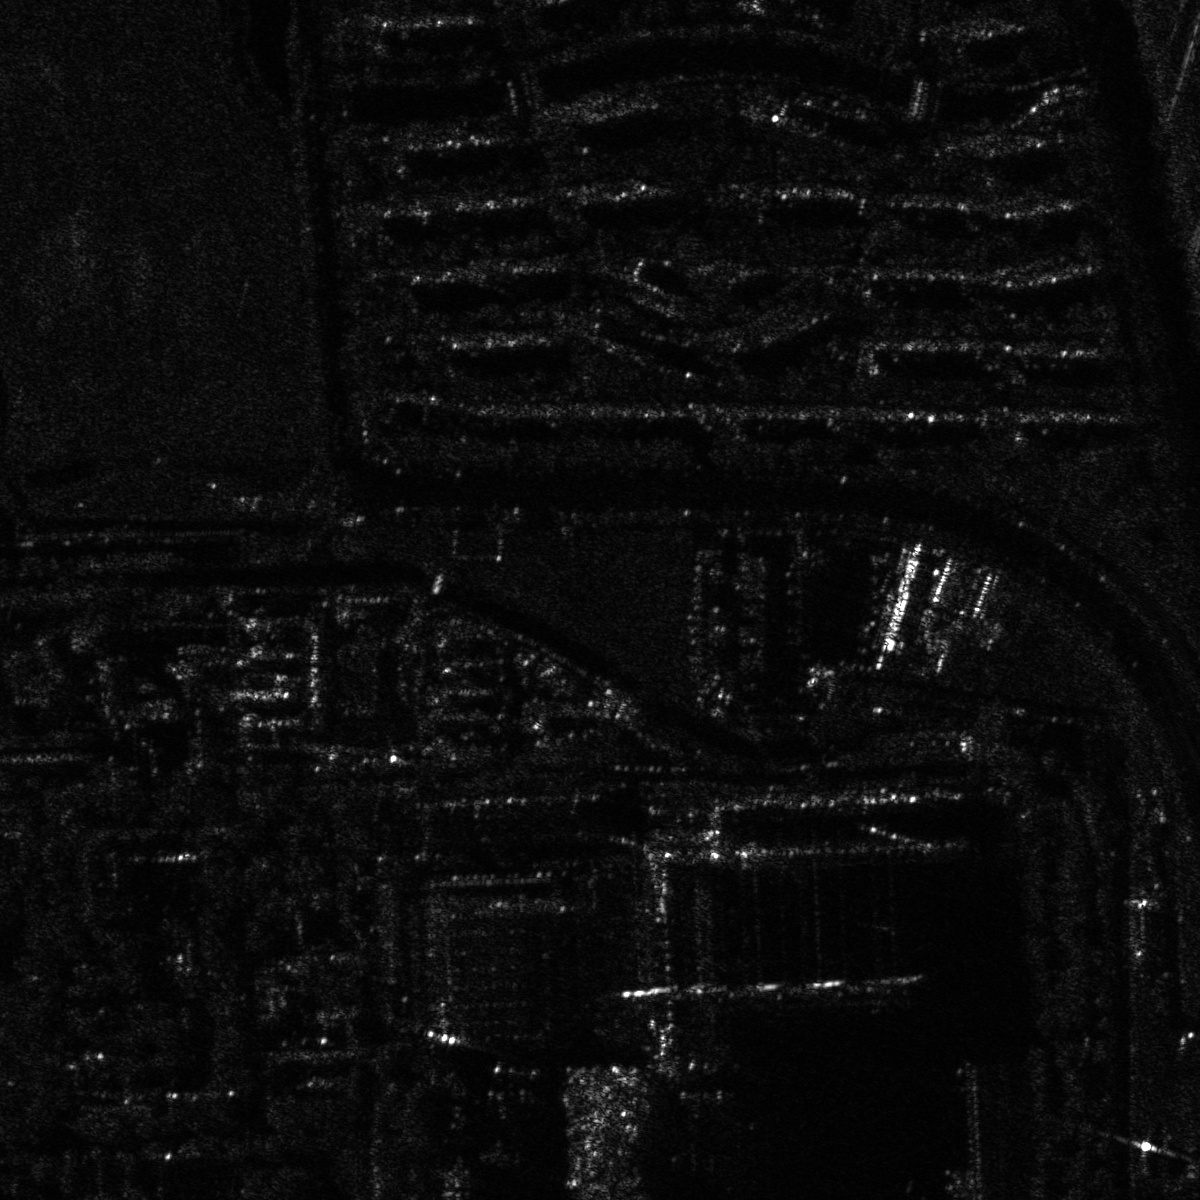Boeing737: (663, 1088, 759, 1177), (474, 1084, 547, 1169)
